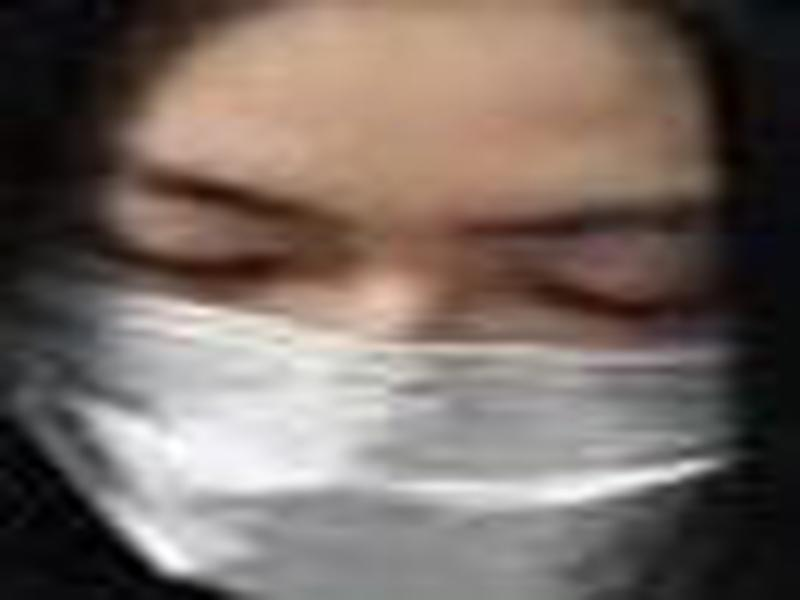with_mask: (1, 3, 772, 600)
